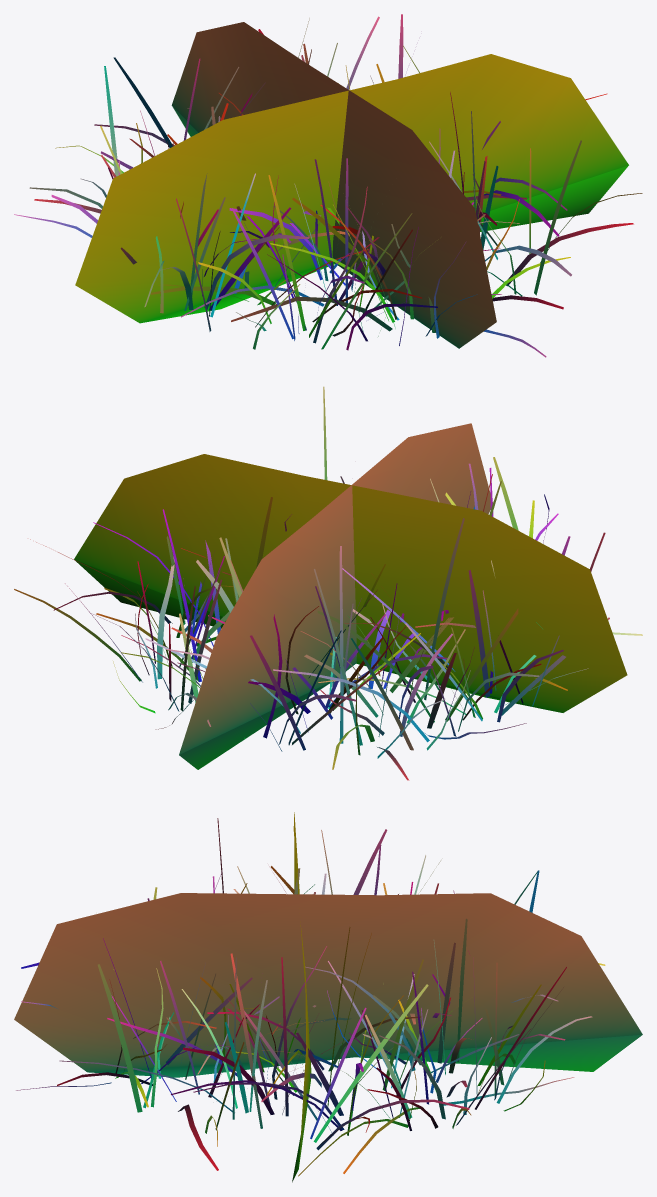
The model's file is Wild_Grass_vlkhcbxia_High_vlkhcbxia_VarB_LOD1.fbx.
3 views of the same model, one above another, from view 1: azimuth 30°, elevation 25°; view 2: azimuth 150°, elevation 25°; view 3: azimuth 270°, elevation 25° (orthographic). The views are drawn at different scales.
Visible parts, largest first — view 1: _nm36_VarB_LOD2; view 2: _nm36_VarB_LOD2; view 3: _nm36_VarB_LOD2.
Part boxes in pixels (x1=…): _nm36_VarB_LOD2: x1=14, y1=14, x2=642, y2=357; _nm36_VarB_LOD2: x1=14, y1=386, x2=642, y2=780; _nm36_VarB_LOD2: x1=14, y1=812, x2=642, y2=1182.
Bounding box in the file's own units: 55.29 × 17.65 × 54.04.
